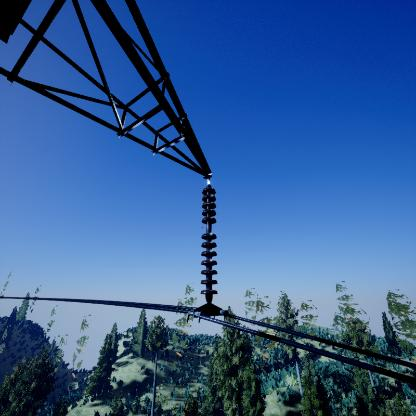insulator: (199, 185, 223, 299)
